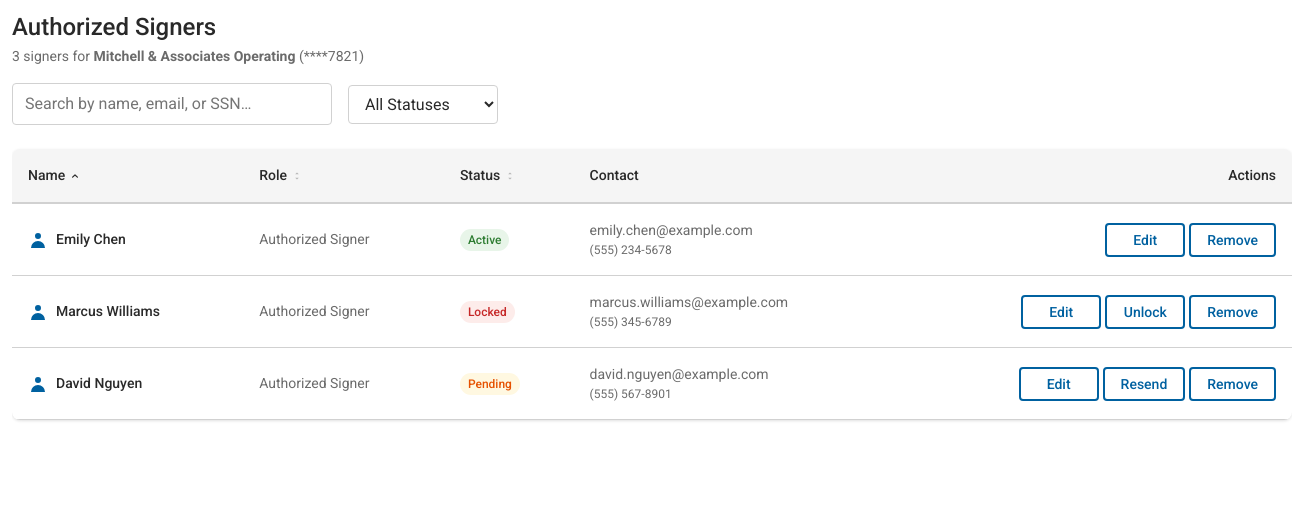
SignerList › action messages › shows success message after successful unlock
Click the button with aria-label "unlock signer marcus williams" at x=1145, y=312, box left=1105, top=294, right=1185, bottom=328
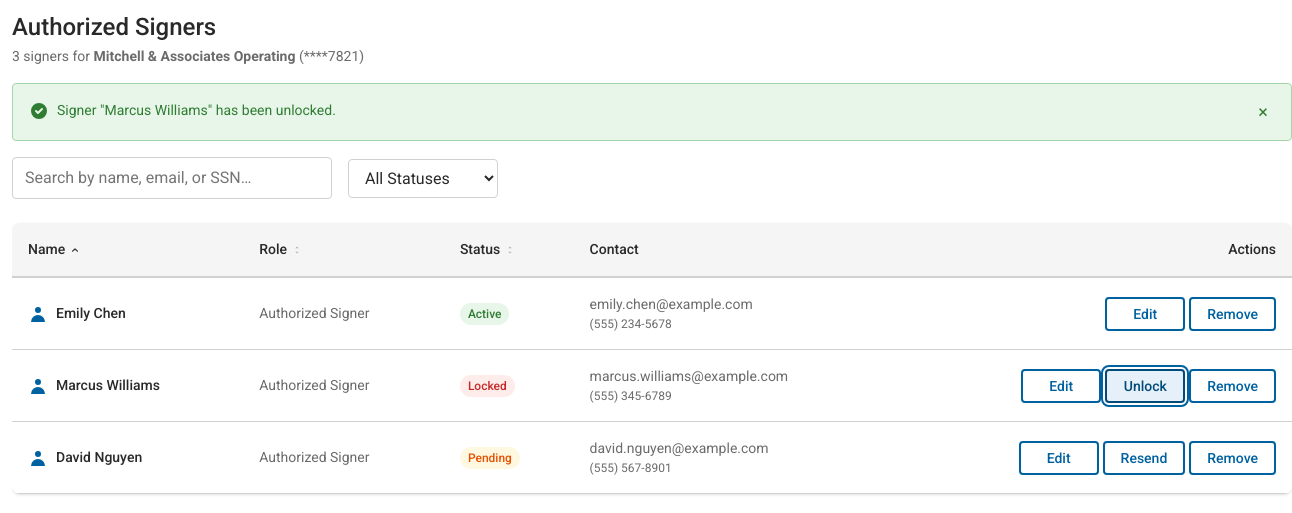
expect the text "Signer \"Marcus Williams\" has been unlocked." is shown: met, box left=57, top=102, right=336, bottom=118
